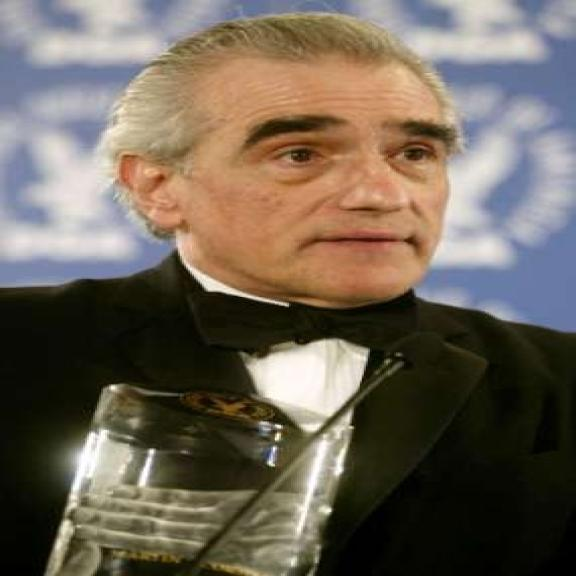face: (112, 60, 461, 304)
